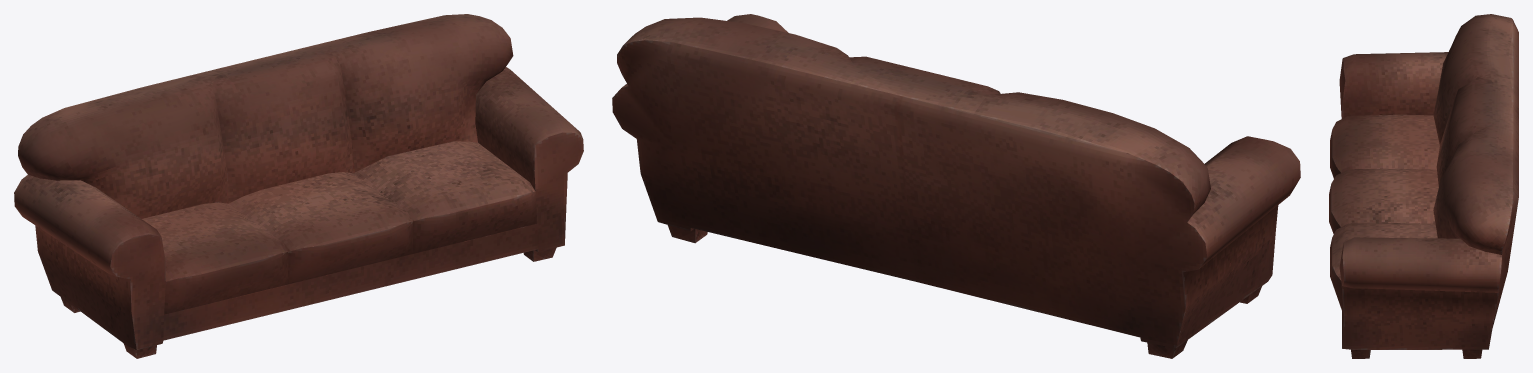
File: Sofa.fbx
3 renders of one model, left to right at view 1: azimuth 30°, elevation 25°; view 2: azimuth 150°, elevation 25°; view 3: azimuth 270°, elevation 25°, orthographic. The views are drawn at different scales.
Parts seen in each view (by area): view 1: sofa; view 2: sofa; view 3: sofa.
Boxes of the visible parts, box(x1,y1,x2,y2) form: sofa: box(14, 14, 583, 358); sofa: box(612, 14, 1300, 358); sofa: box(1329, 14, 1518, 358).
Bounding box in the file's own units: 1614 × 586 × 601.
Materials: 1 (1 with a texture image).
